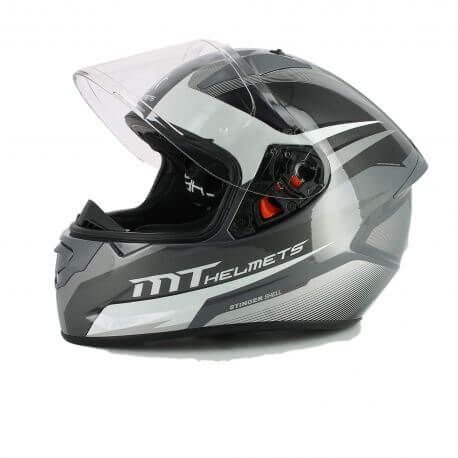helmet: (36, 29, 438, 389)
